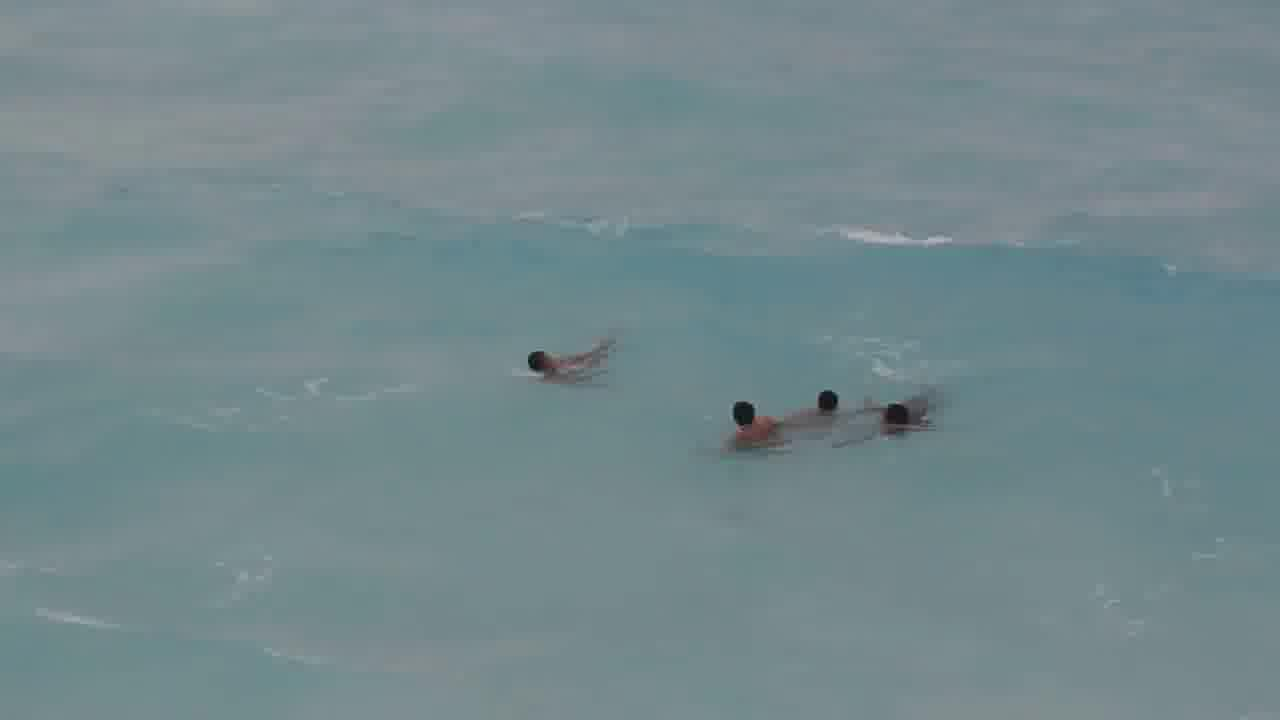human: (833, 397, 944, 452), (514, 336, 623, 390), (709, 397, 788, 456), (793, 380, 856, 426)
